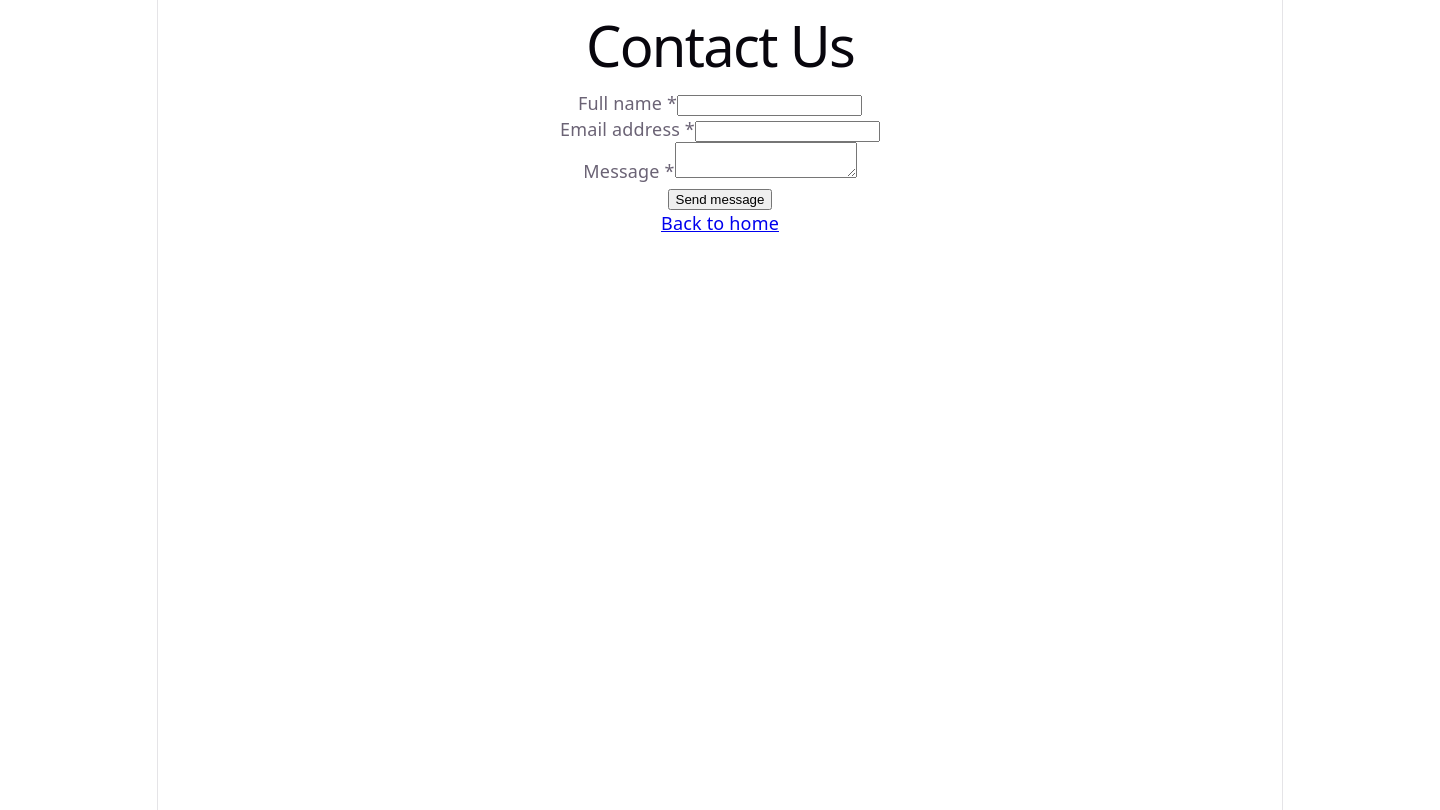
Test case: AC3: successful submission shows confirmation message › happy path — replaces form with success message and shows Send another message button
Type "Alice" into the field labelled "Full name *" at [770, 106], box [677,95,862,116]
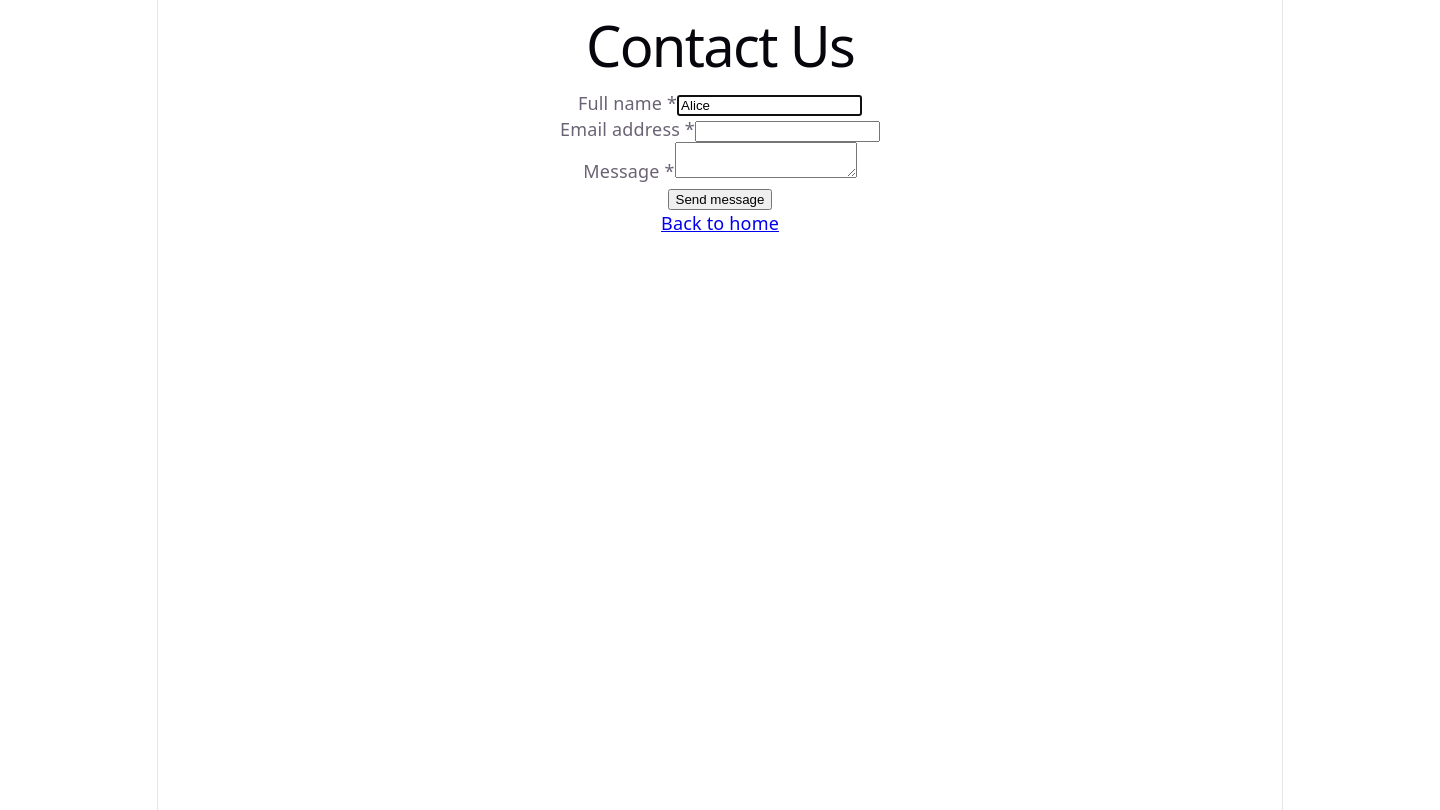
Type "alice@example.com" into the field labelled "Email address *" at [788, 132], box [695,121,880,142]
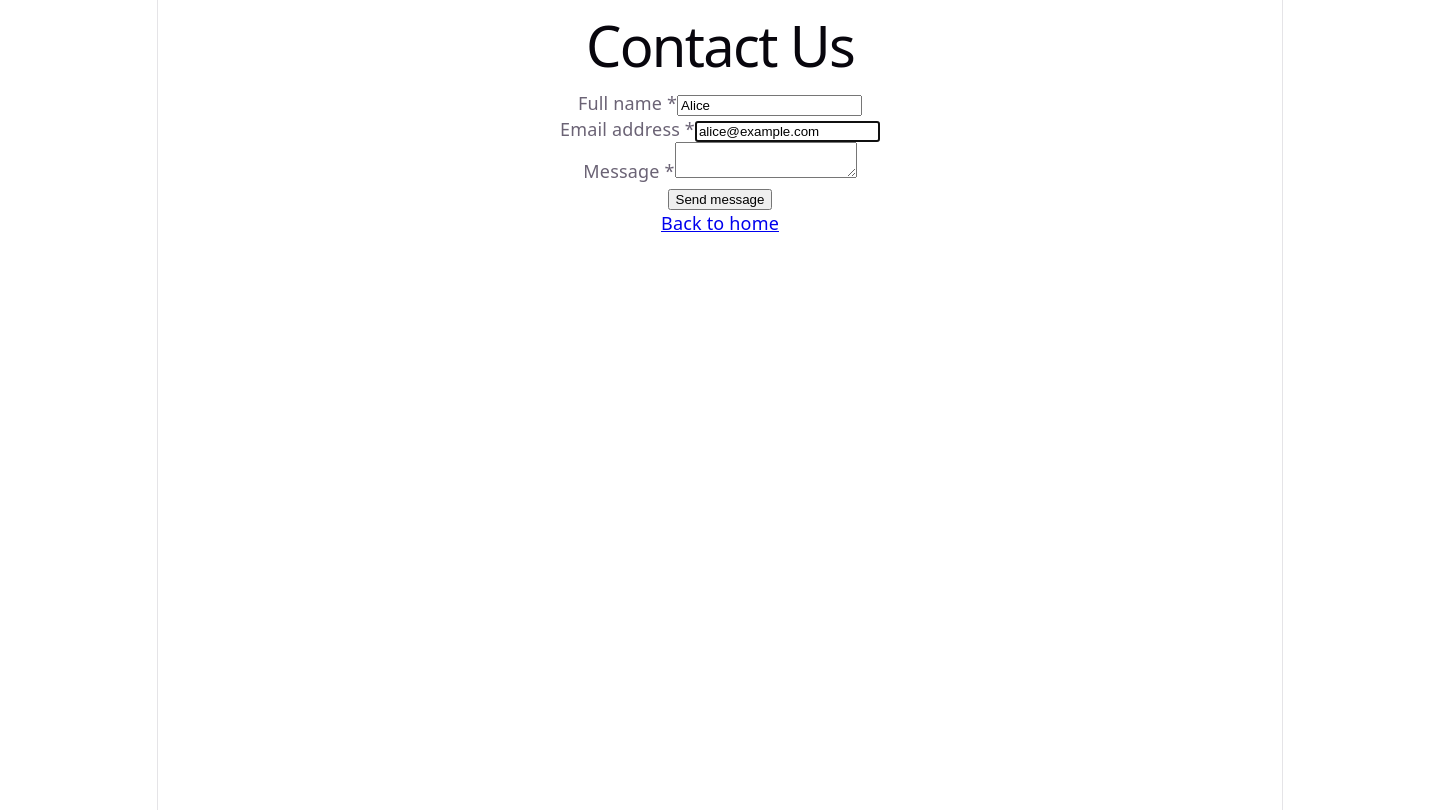
Type "Hello" into the text box labelled "Message *" at [766, 160], box [675,142,857,178]
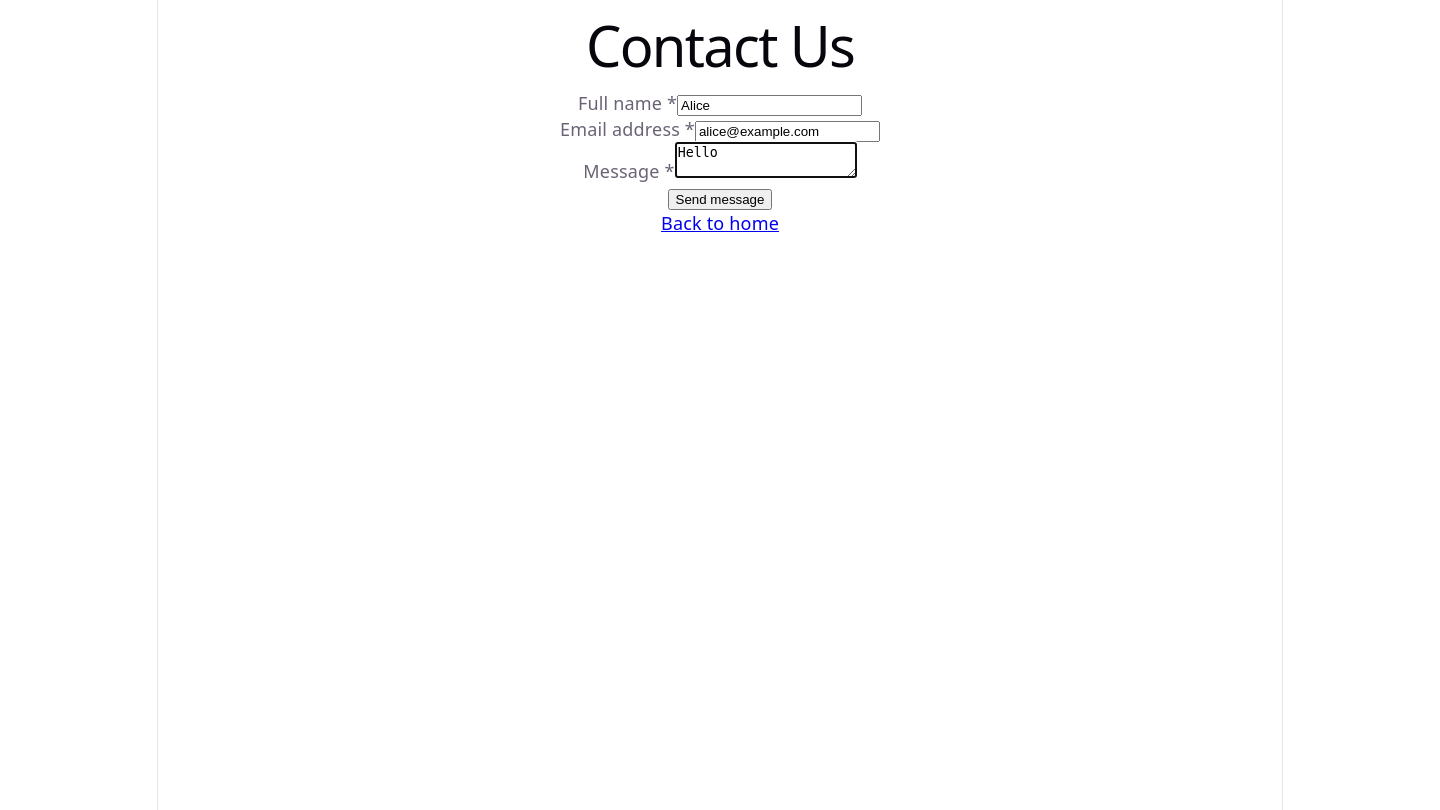
Click the button "Send message" at [720, 200], box [668,189,772,210]
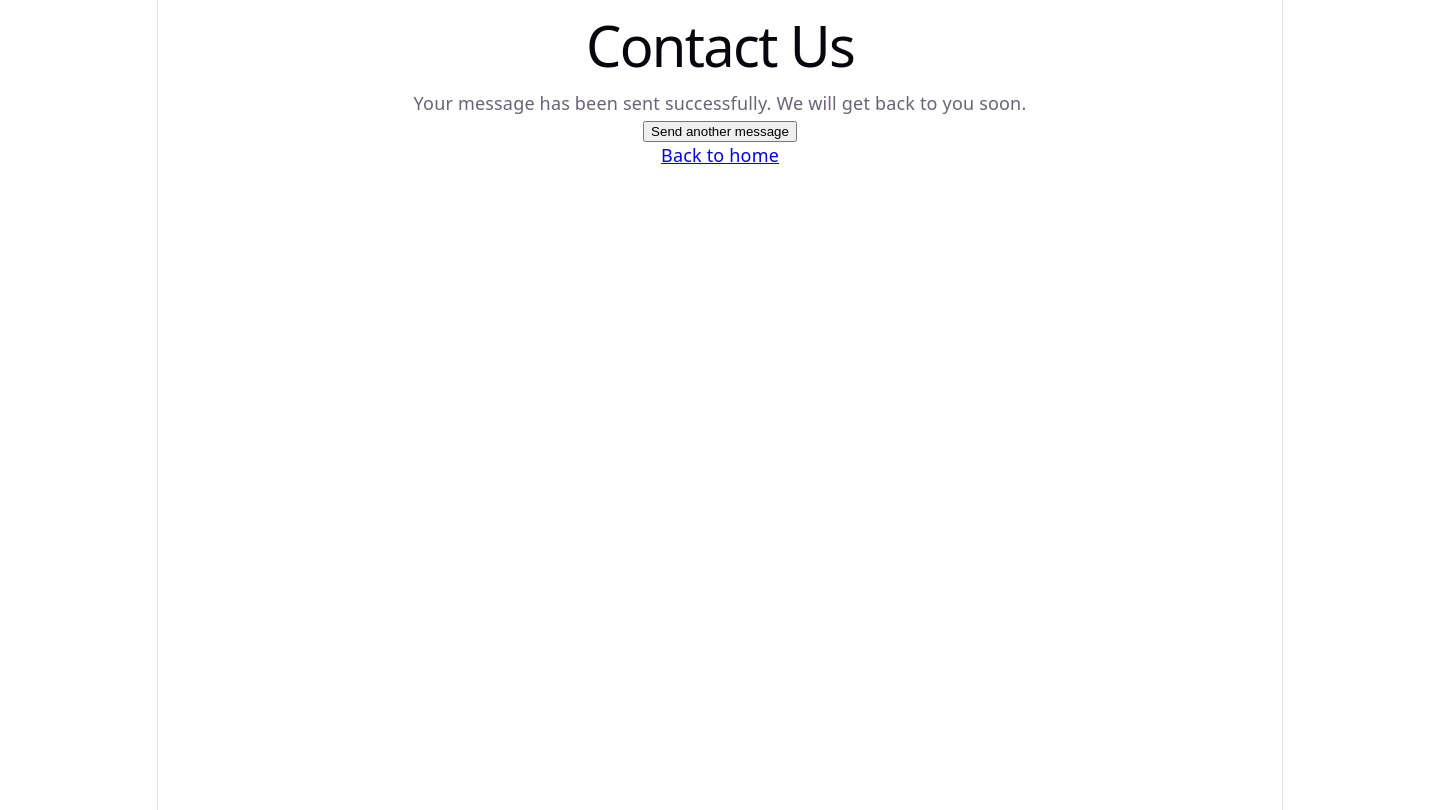
Check: the button "Send message" is gone
Check: the message is shown, box [414,91,1026,142]
Check: the button "Send another message" is shown, box [643,121,797,142]
